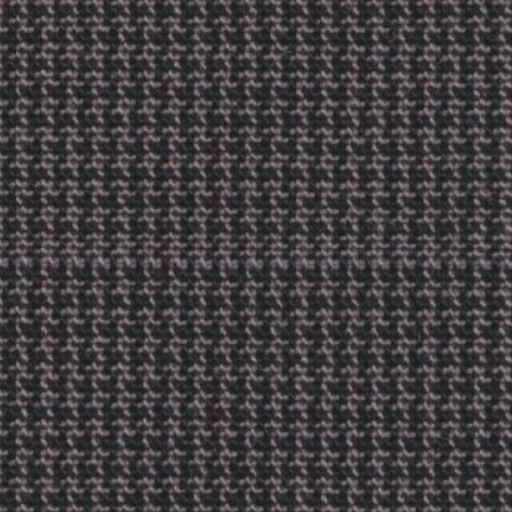TuoSha: (12, 190, 497, 307)
